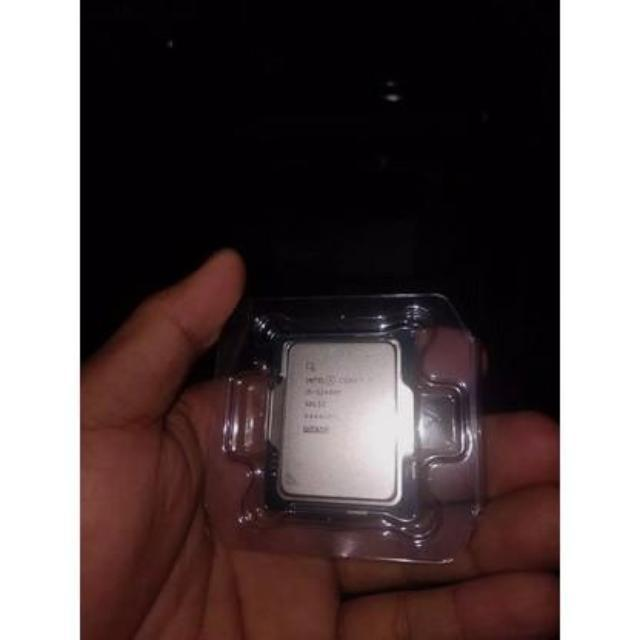CPU: (268, 331, 410, 517)
